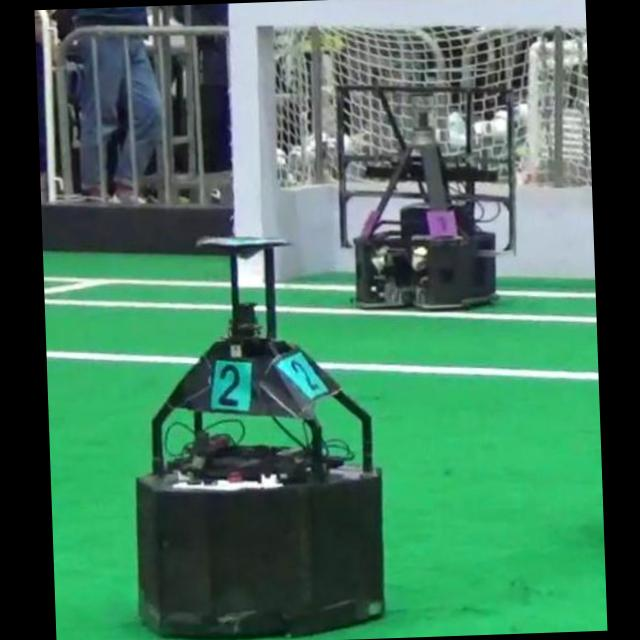goal: (228, 3, 261, 235)
robot: (135, 238, 382, 640), (354, 94, 496, 307)
